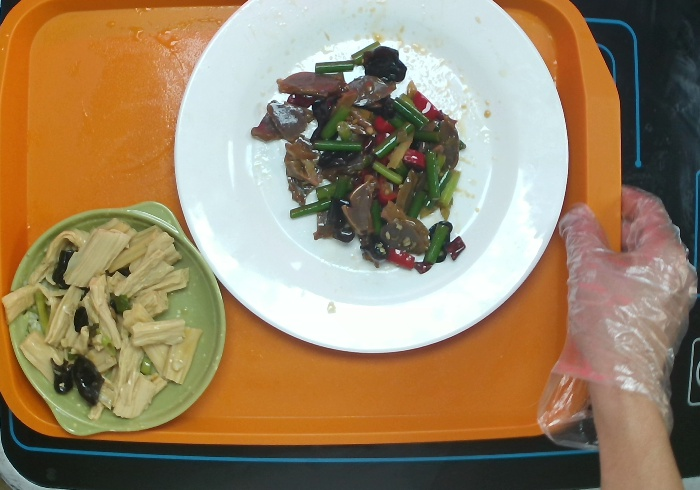NLDX-Da_Yuan_Pan: (165, 1, 577, 363)
NLDX-Lv_Hua_Shuang_Er_Die: (4, 196, 230, 440)
